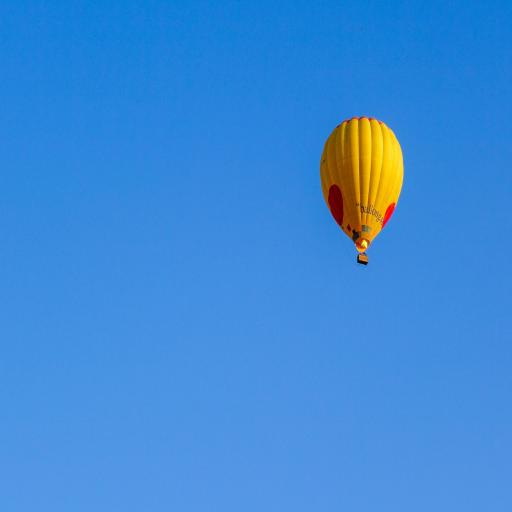hot air ballon: (320, 116, 404, 266)
